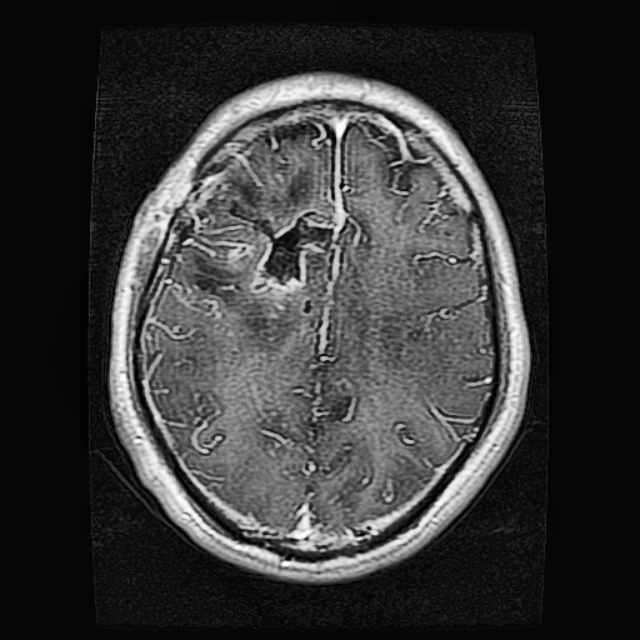Glioma: (223, 200, 340, 294)
